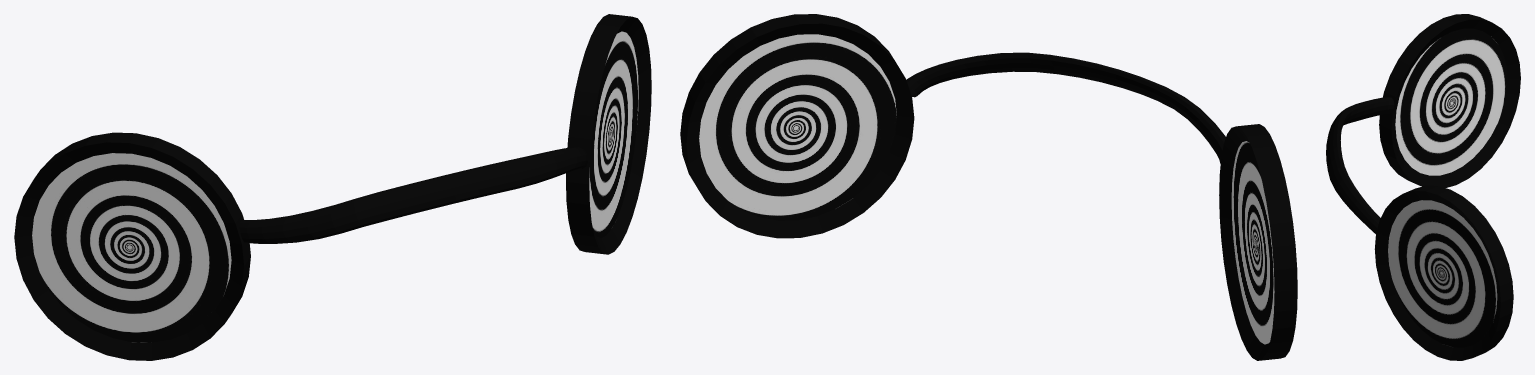
Rendered from hypnotize.fbx.
The picture shows the model from 3 angles, left to right: view 1: azimuth 30°, elevation 25°; view 2: azimuth 150°, elevation 25°; view 3: azimuth 270°, elevation 25°; orthographic projection. The views are drawn at different scales.
Visible parts, largest first — view 1: Cylinder.011; view 2: Cylinder.011; view 3: Cylinder.011.
Boxes of the visible parts, x1,y1,x2,y2 form: Cylinder.011: [14, 14, 651, 360]; Cylinder.011: [680, 14, 1297, 360]; Cylinder.011: [1326, 14, 1520, 360].
Bounding box in the file's own units: 199 × 65.18 × 71.13.
